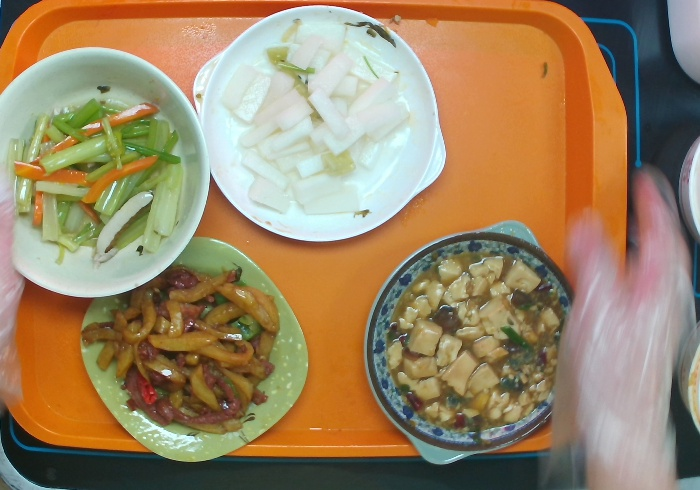NLDX-Bai_Se_Shuang_Er_Die: (190, 4, 449, 249)
NLDX-Bai_Se_Yuan_Wan: (5, 47, 210, 301)
NLDX-Lv_Hua_Fang_Die: (77, 236, 311, 465)
NLDX-Qing_Hua_Shuang_Er_Die: (362, 216, 570, 467)
